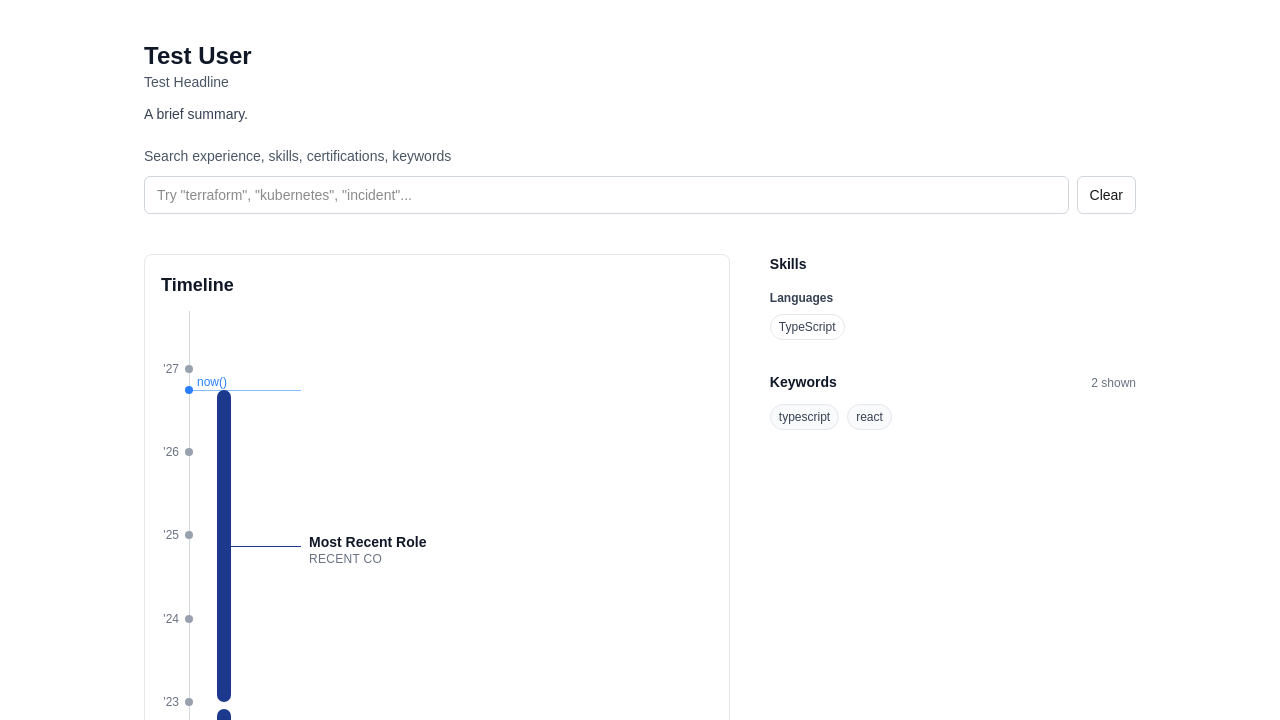
Scenario: Home page › shows NO_MATCHES empty state when nothing matches
Type "zzzzz-nonsense-xxxx" into the field with placeholder "Try \"terraform\", \"kubernetes\", \"incident\"..." at (606, 195), box [144, 176, 1068, 214]
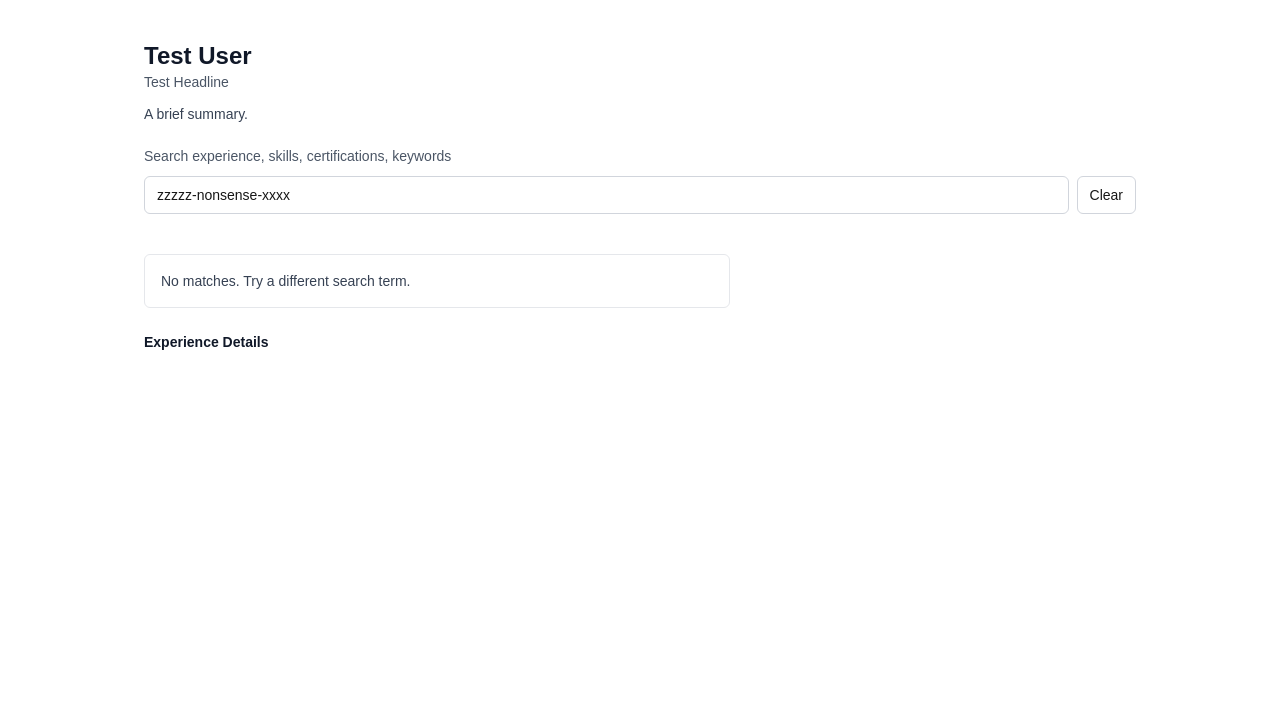
Result: the text "No matches. Try a different search term." is shown at [144, 254, 730, 308]
